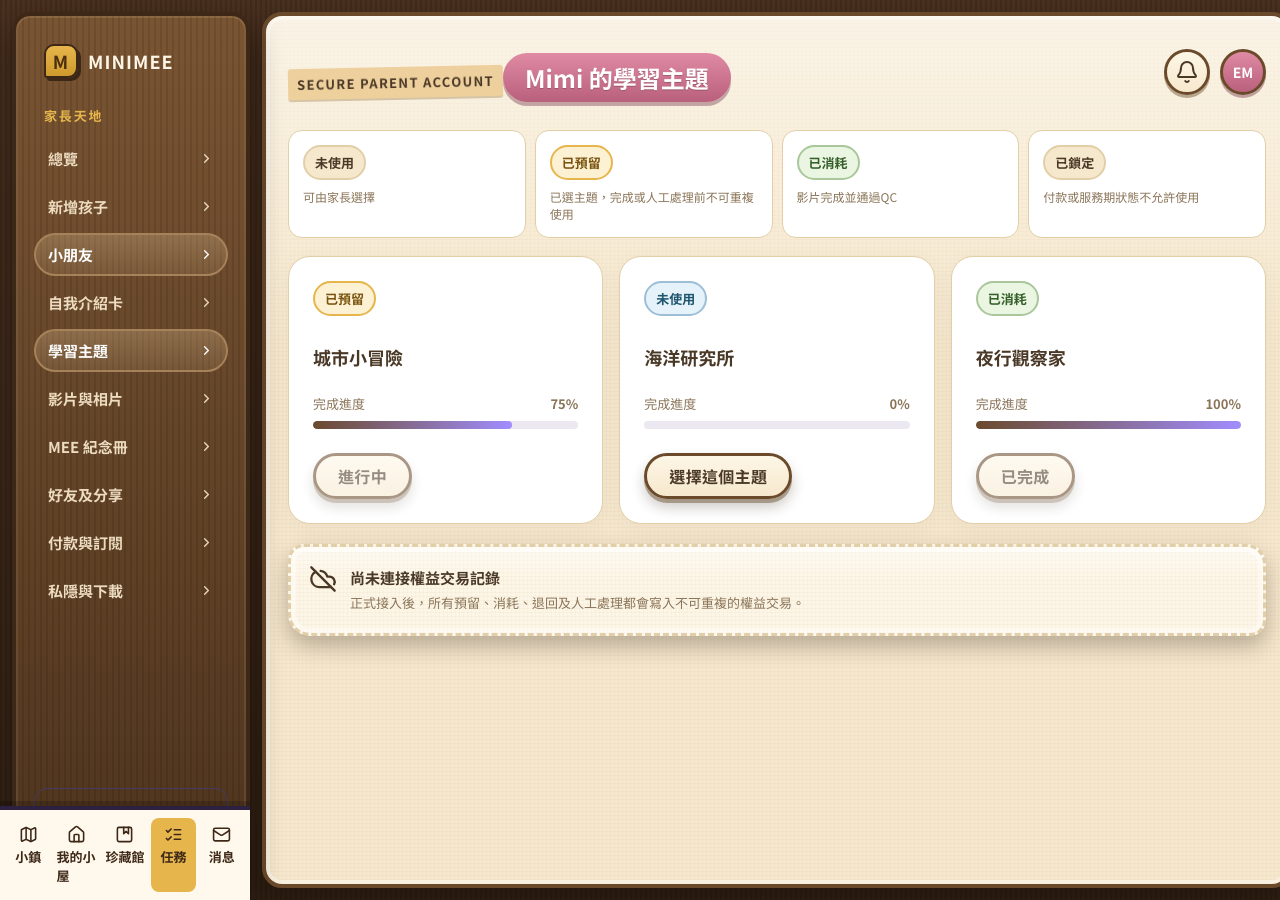
MINIMEE route shells › moves an available theme entitlement into reserved state
The width and height of the screenshot is (1280, 900).
Click the button "選擇這個主題". click: (718, 476)
box: [644,453,792,499]
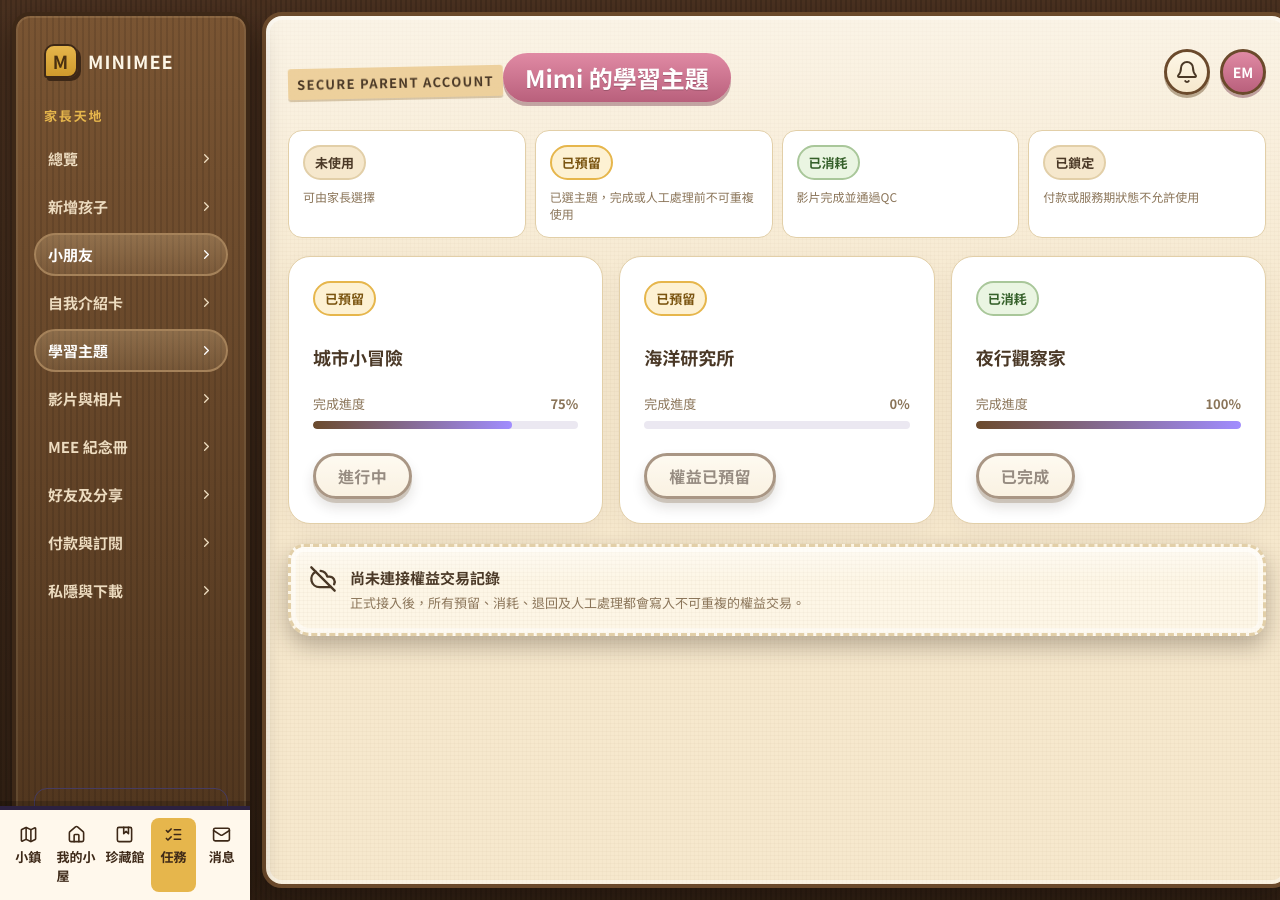
Now the button "權益已預留" is disabled, box [644,453,776,499]
